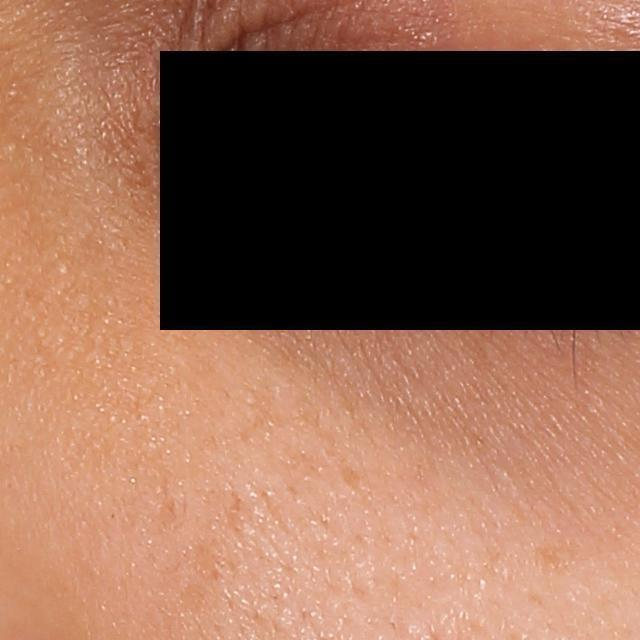melasma: (532, 538, 586, 581), (188, 534, 232, 583), (337, 462, 364, 491)
